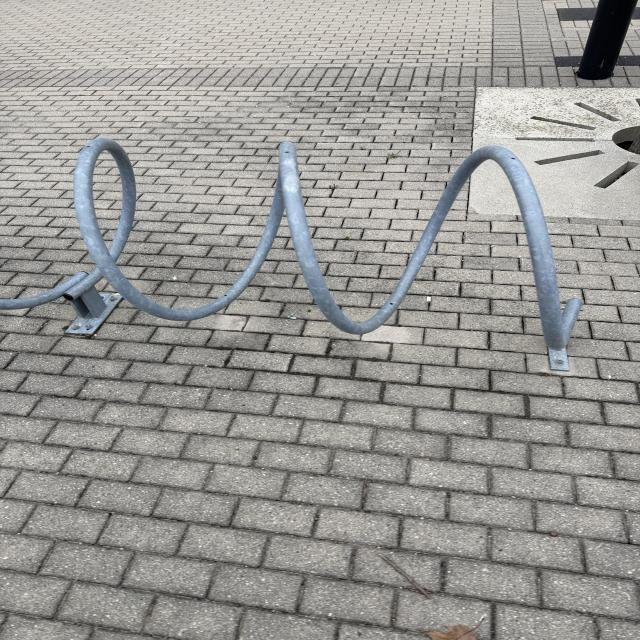Bicycle Rack: (3, 138, 590, 363)
